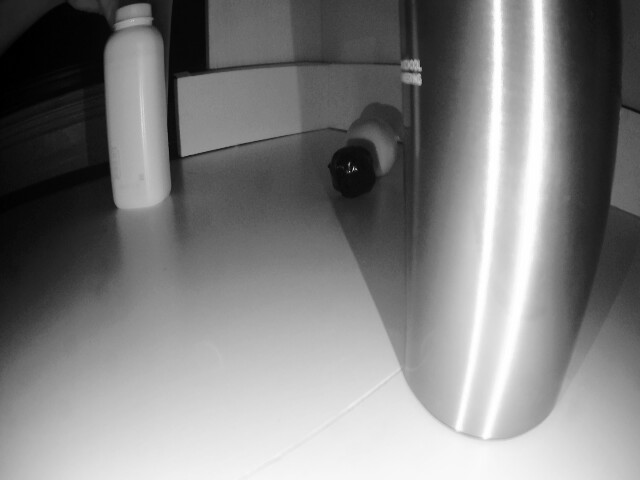black: (330, 139, 376, 193)
